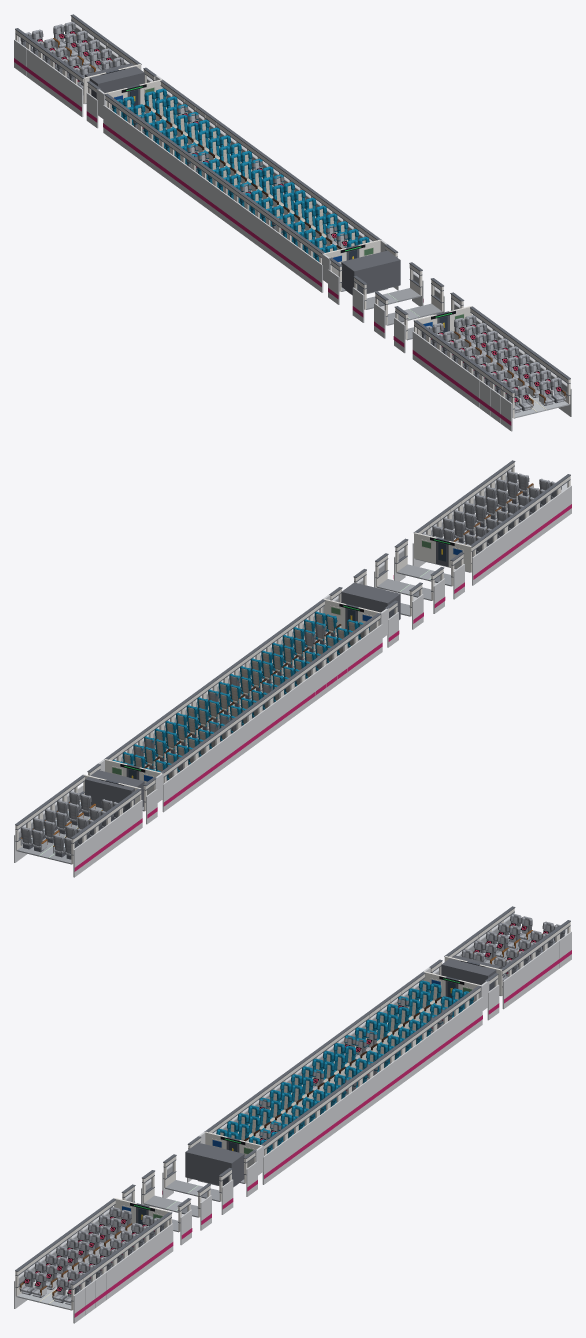
Rendered from car_eksekutifDualTone.glb.
3 views of the same model, one above another, from view 1: azimuth 30°, elevation 25°; view 2: azimuth 150°, elevation 25°; view 3: azimuth 330°, elevation 25° (orthographic).
Visible parts, largest first — view 1: global_st_0, car_st_37, car_st_36, car_st_38, global_st_1, car_st_3, car_st_35, car_st_46, car_st_33, car_st_10, car_st_6, car_st_14 (+32 smaller); view 2: car_st_35, global_st_1, car_st_36, car_st_34, car_st_7, global_st_0, car_st_3, car_st_46, car_st_10, car_st_37, car_st_6, car_st_5 (+32 smaller); view 3: global_st_0, car_st_37, car_st_36, car_st_38, global_st_1, car_st_3, car_st_35, car_st_46, car_st_33, car_st_10, car_st_14, car_st_6 (+32 smaller).
Part boxes in pixels (x1,y1,x2,y2): global_st_0: [341, 250, 400, 295]; car_st_37: [352, 262, 423, 322]; car_st_36: [374, 278, 444, 338]; car_st_38: [500, 370, 571, 431]; global_st_1: [85, 63, 144, 98]; car_st_3: [62, 50, 141, 117]; car_st_35: [393, 292, 464, 353]; car_st_46: [412, 306, 485, 368]; car_st_33: [103, 79, 175, 142]; car_st_10: [323, 239, 380, 275]; car_st_6: [26, 23, 97, 84]; car_st_14: [308, 230, 381, 292]; car_st_35: [393, 538, 464, 599]; global_st_1: [85, 770, 144, 812]; car_st_36: [374, 553, 445, 613]; car_st_34: [414, 532, 471, 572]; car_st_7: [14, 815, 86, 877]; global_st_0: [341, 582, 400, 619]; car_st_3: [64, 774, 142, 841]; car_st_46: [412, 523, 486, 585]; car_st_10: [323, 599, 380, 632]; car_st_37: [353, 569, 423, 629]; car_st_6: [27, 807, 98, 868]; car_st_5: [39, 798, 110, 859]; global_st_0: [185, 1142, 244, 1187]; car_st_37: [162, 1154, 233, 1214]; car_st_36: [141, 1170, 211, 1230]; car_st_38: [14, 1262, 85, 1323]; global_st_1: [441, 955, 500, 990]; car_st_3: [444, 942, 523, 1009]; car_st_35: [121, 1184, 192, 1245]; car_st_46: [100, 1198, 173, 1260]; car_st_33: [410, 971, 482, 1034]; car_st_10: [205, 1131, 262, 1167]; car_st_14: [204, 1122, 277, 1184]; car_st_6: [488, 915, 559, 976].
Size of the model in its own units: 3.39 by 2.07 by 48.19.
42 materials, 10 textured.
